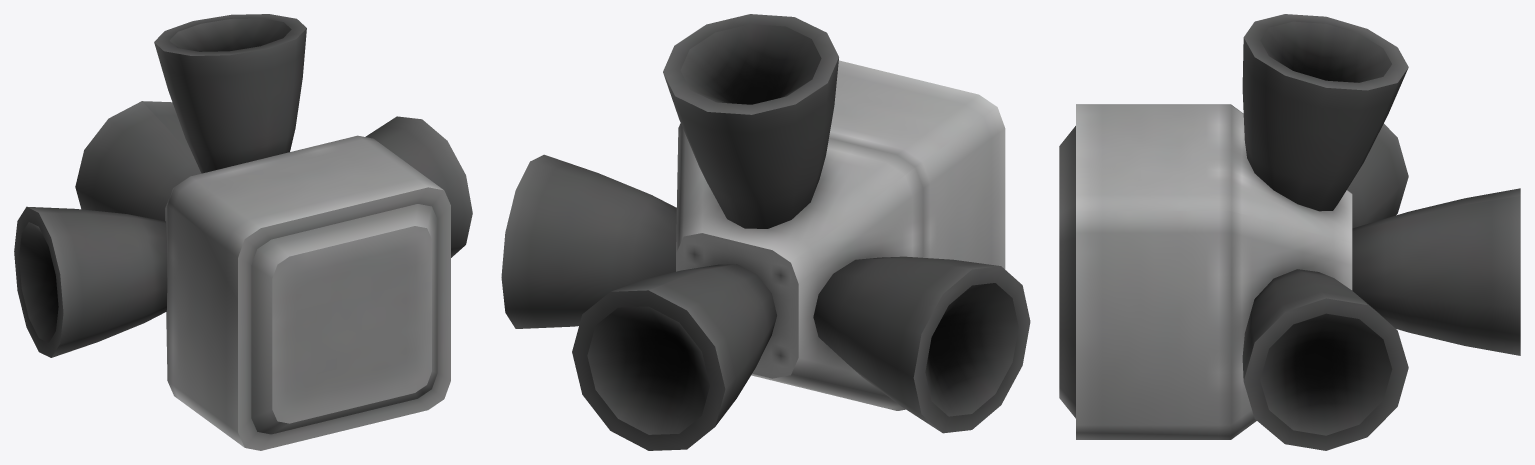
File: Tantares_RCS_2_E.obj
3 renders of one model, left to right at view 1: azimuth 30°, elevation 25°; view 2: azimuth 150°, elevation 25°; view 3: azimuth 270°, elevation 25°, orthographic. The views are drawn at different scales.
Visible parts, largest first — view 1: Tantares_RCS_2_E; view 2: Tantares_RCS_2_E; view 3: Tantares_RCS_2_E.
Part boxes in pixels (x1,y1,x2,y2): Tantares_RCS_2_E: [14, 14, 472, 450]; Tantares_RCS_2_E: [501, 14, 1030, 450]; Tantares_RCS_2_E: [1059, 14, 1520, 450].
Size of the model in its own units: 0.1923 by 0.1461 by 0.1712.
